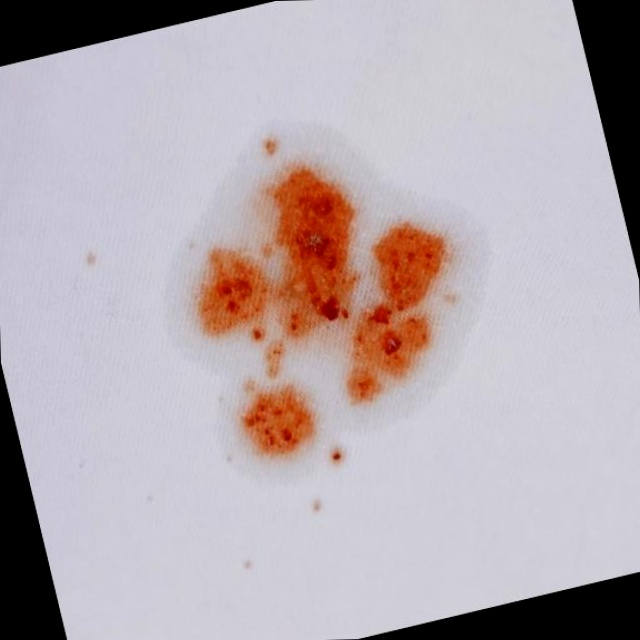kimchi: (158, 131, 495, 481), (77, 241, 108, 280), (311, 497, 330, 526), (239, 555, 256, 578)
